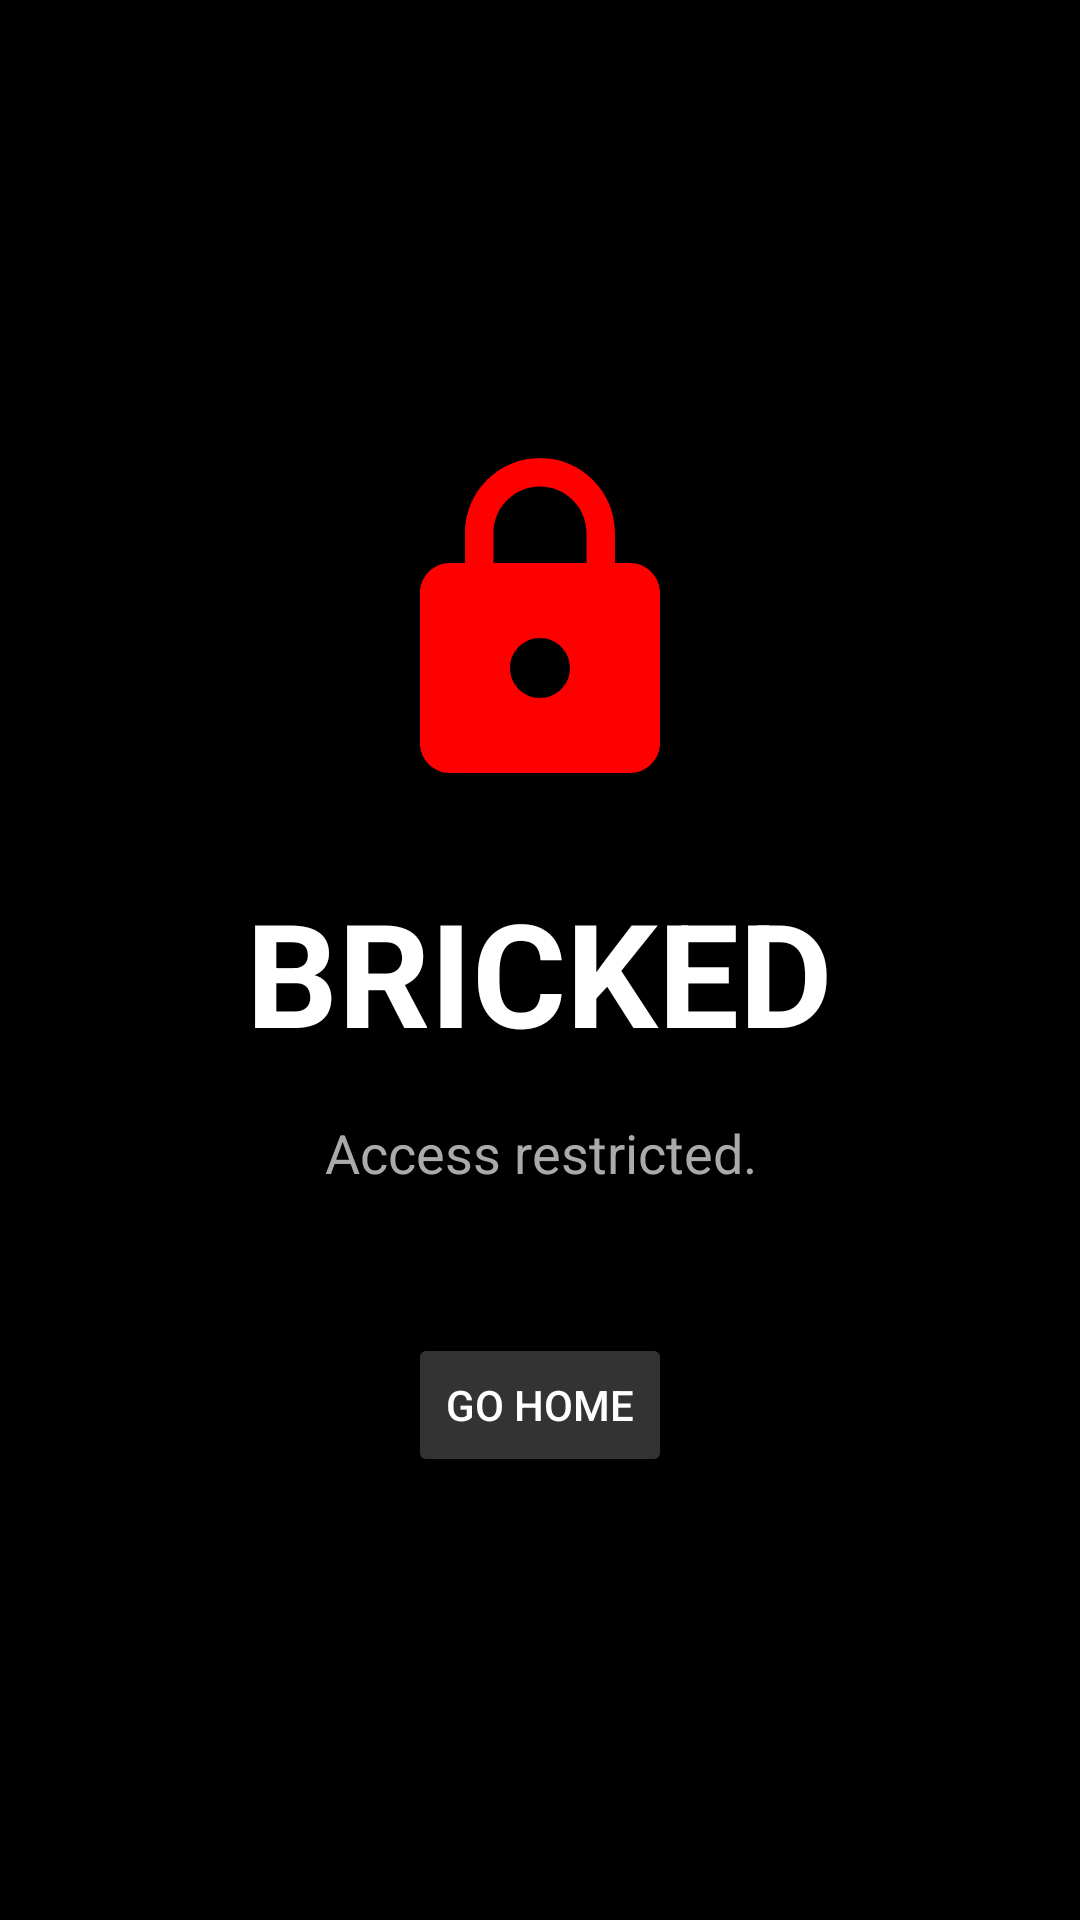

Named icons in this screenshot (1080 x 1920) and their bounding boxes, (x1, y1, x2, y2):
lock closed: (420, 458, 660, 773)
